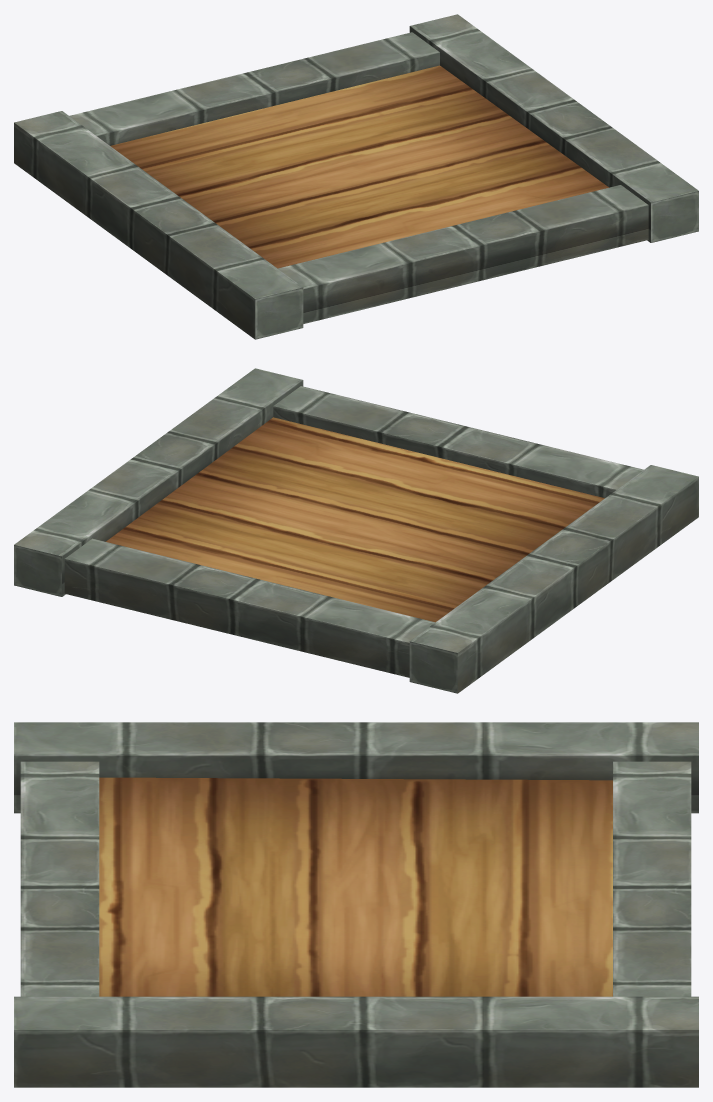
Rendered from bridge_03_tile_01.fbx.
The picture shows the model from 3 angles, top to bottom: view 1: azimuth 30°, elevation 25°; view 2: azimuth 150°, elevation 25°; view 3: azimuth 270°, elevation 25°; orthographic projection. The views are drawn at different scales.
Parts seen in each view (by area): view 1: bridge_03_tile_01Mesh; view 2: bridge_03_tile_01Mesh; view 3: bridge_03_tile_01Mesh.
Part boxes in pixels (bbox=[...]): bridge_03_tile_01Mesh: bbox=[14, 14, 698, 339]; bridge_03_tile_01Mesh: bbox=[14, 368, 698, 693]; bridge_03_tile_01Mesh: bbox=[14, 722, 698, 1087].
Bounding box in the file's own units: 2.28 × 0.1999 × 2.15.
